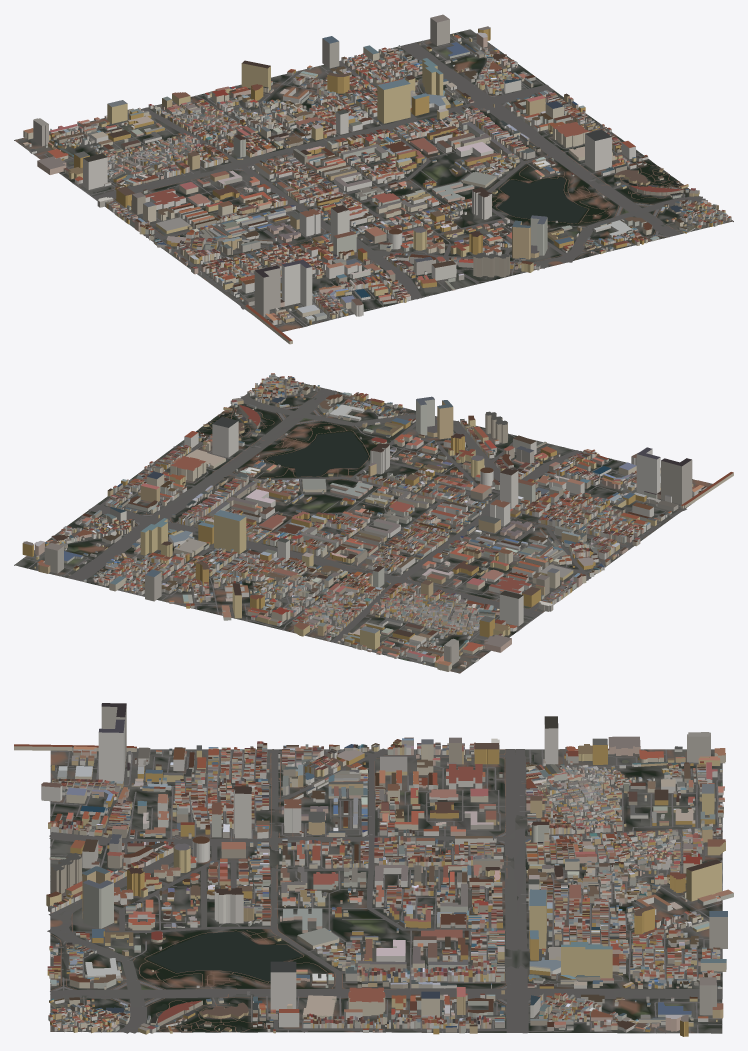
3 views of the same model, one above another, from view 1: azimuth 30°, elevation 25°; view 2: azimuth 150°, elevation 25°; view 3: azimuth 270°, elevation 25° (orthographic). The views are drawn at different scales.
Parts seen in each view (by area): view 1: buildings, ground, roads, water; view 2: buildings, ground, roads, water; view 3: buildings, ground, roads, water.
Boxes of the visible parts, x1=… form: buildings: x1=22, y1=14, x2=731, y2=344; ground: x1=14, y1=29, x2=733, y2=331; roads: x1=36, y1=32, x2=727, y2=326; water: x1=69, y1=162, x2=679, y2=327; buildings: x1=22, y1=373, x2=733, y2=671; ground: x1=14, y1=377, x2=712, y2=673; roads: x1=23, y1=378, x2=693, y2=663; water: x1=196, y1=413, x2=692, y2=660; buildings: x1=14, y1=703, x2=733, y2=1036; ground: x1=50, y1=749, x2=722, y2=1033; roads: x1=47, y1=748, x2=722, y2=1033; water: x1=50, y1=754, x2=721, y2=1032.
Size of the model in its own units: 1445 by 120 by 1502.
